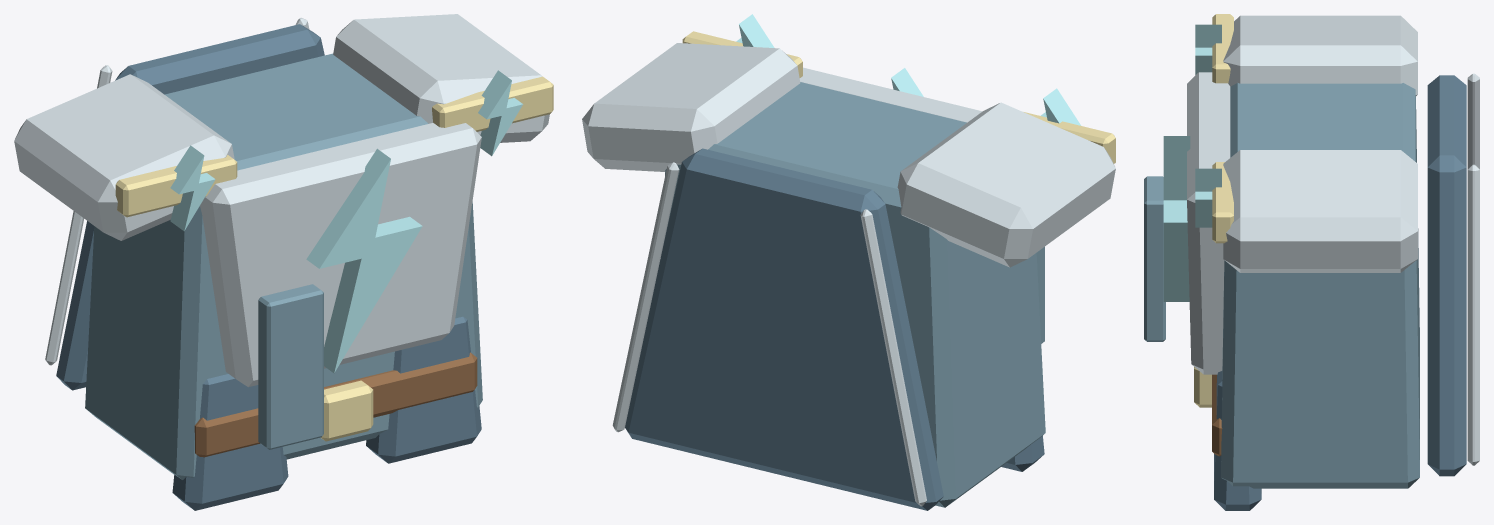
Rendered from Storm_Runner_Torso.fbx.
3 renders of one model, left to right at view 1: azimuth 30°, elevation 25°; view 2: azimuth 150°, elevation 25°; view 3: azimuth 270°, elevation 25°, orthographic. The views are drawn at different scales.
Parts seen in each view (by area): view 1: Storm_Runner_Torso; view 2: Storm_Runner_Torso; view 3: Storm_Runner_Torso.
Part boxes in pixels (bbox=[...]): Storm_Runner_Torso: bbox=[14, 14, 553, 510]; Storm_Runner_Torso: bbox=[582, 14, 1115, 510]; Storm_Runner_Torso: bbox=[1144, 14, 1479, 510].
Size of the model in its own units: 104 by 80.16 by 69.
